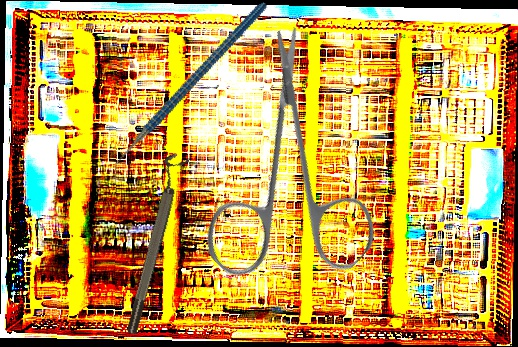Chopper: (69, 1, 308, 186)
Fixation Ring: (115, 151, 191, 336)
Iris Scissors: (132, 21, 445, 333)
